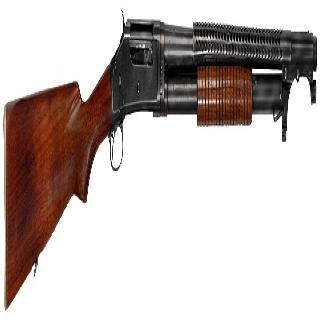gun: (1, 8, 318, 310)
